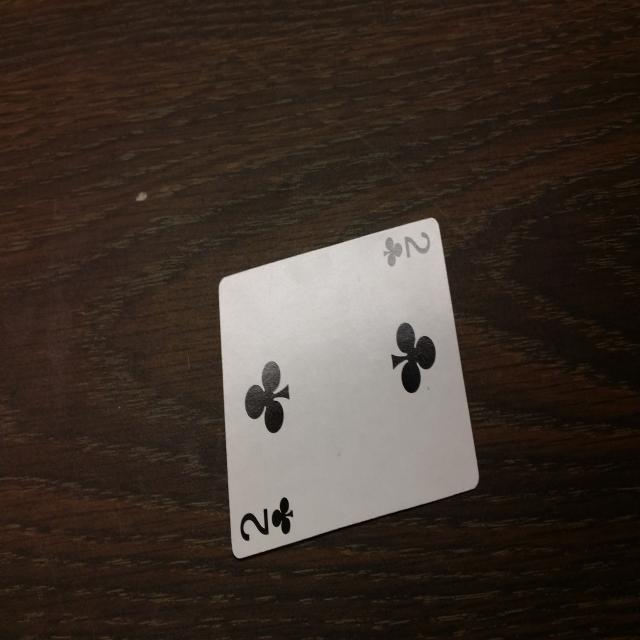2c: (232, 482, 302, 549), (372, 220, 437, 274)
